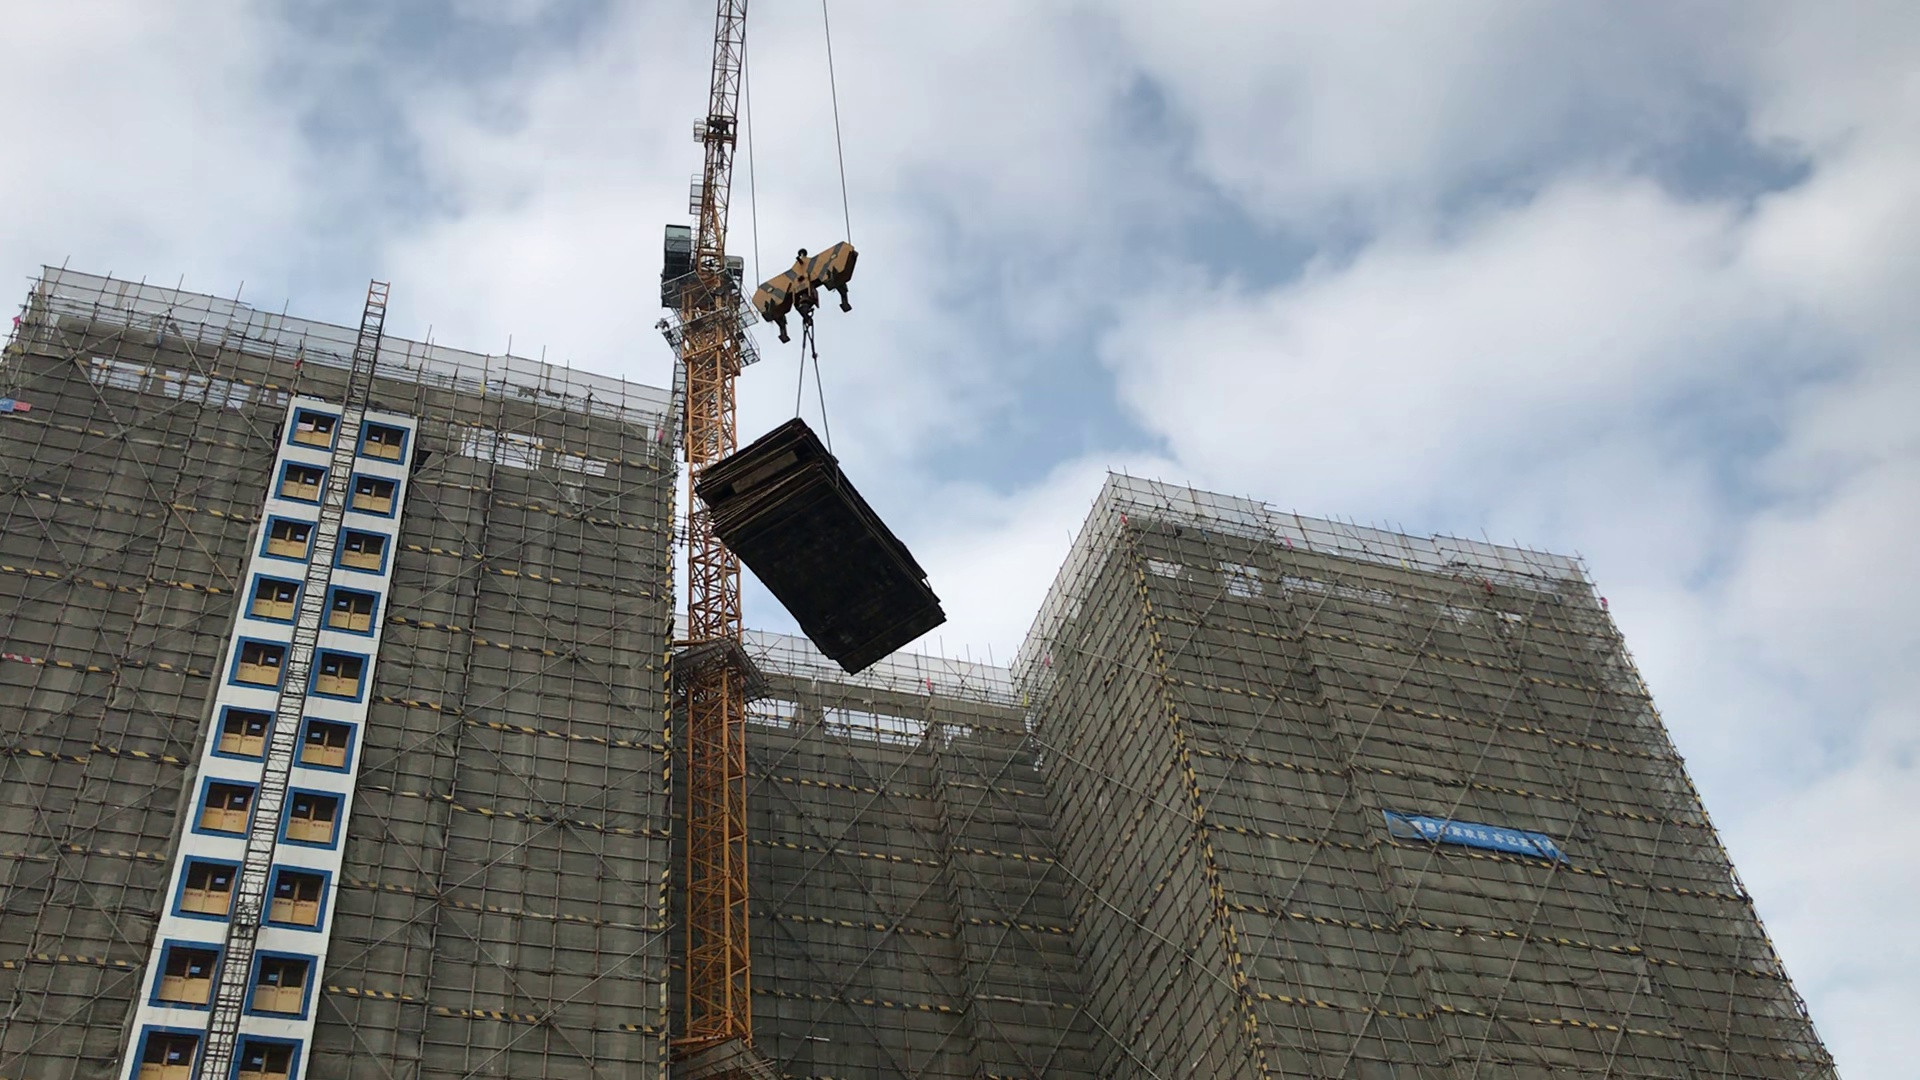board: (695, 415, 949, 676)
hook: (752, 243, 860, 343)
slogan: (1382, 808, 1577, 869)
